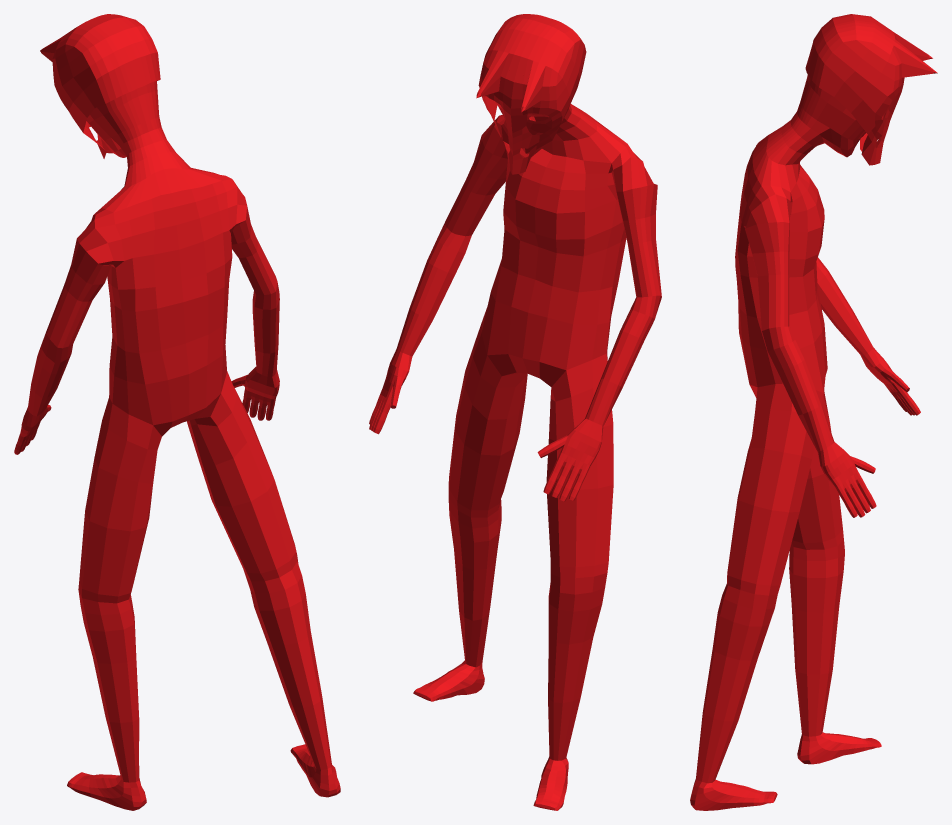
File: reposoE_000227.obj
The picture shows the model from 3 angles, left to right: view 1: azimuth 30°, elevation 25°; view 2: azimuth 150°, elevation 25°; view 3: azimuth 270°, elevation 25°; orthographic projection. The views are drawn at different scales.
Visible parts, largest first — view 1: Plane.002_Plane.001; view 2: Plane.002_Plane.001; view 3: Plane.002_Plane.001.
Part boxes in pixels (left/top/right/bottom): Plane.002_Plane.001: left=14, top=14, right=340, bottom=810; Plane.002_Plane.001: left=369, top=14, right=661, bottom=810; Plane.002_Plane.001: left=690, top=14, right=937, bottom=810.
Bounding box in the file's own units: 2.44 × 7.06 × 2.14.
